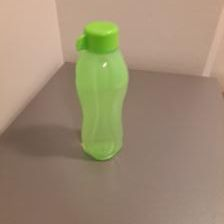bottle: (70, 19, 131, 161)
